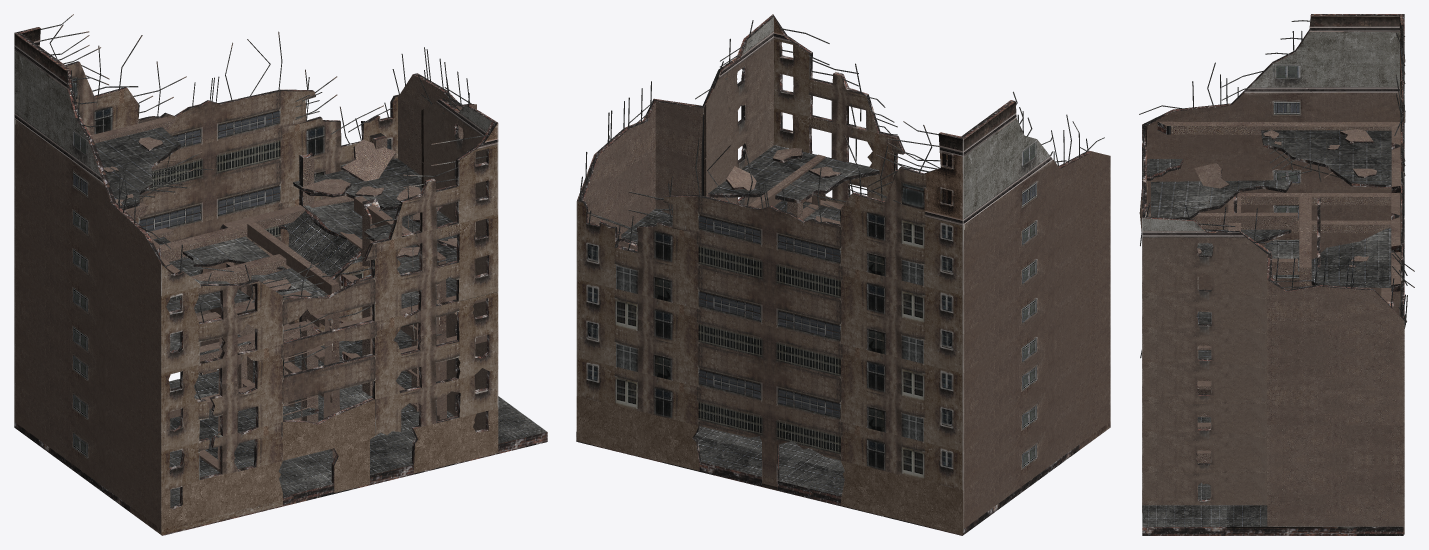
File: buildings_01_ruin.FBX
3 renders of one model, left to right at view 1: azimuth 30°, elevation 25°; view 2: azimuth 150°, elevation 25°; view 3: azimuth 270°, elevation 25°, orthographic. The views are drawn at different scales.
Visible parts, largest first — view 1: Object118; view 2: Object118; view 3: Object118.
Boxes of the visible parts, x1,y1,x2,y2 form: Object118: (14, 14, 547, 535); Object118: (576, 14, 1110, 535); Object118: (1139, 14, 1414, 535).
Bounding box in the file's own units: 3296 × 2282 × 3262.
Materials: 1 (1 with a texture image).
